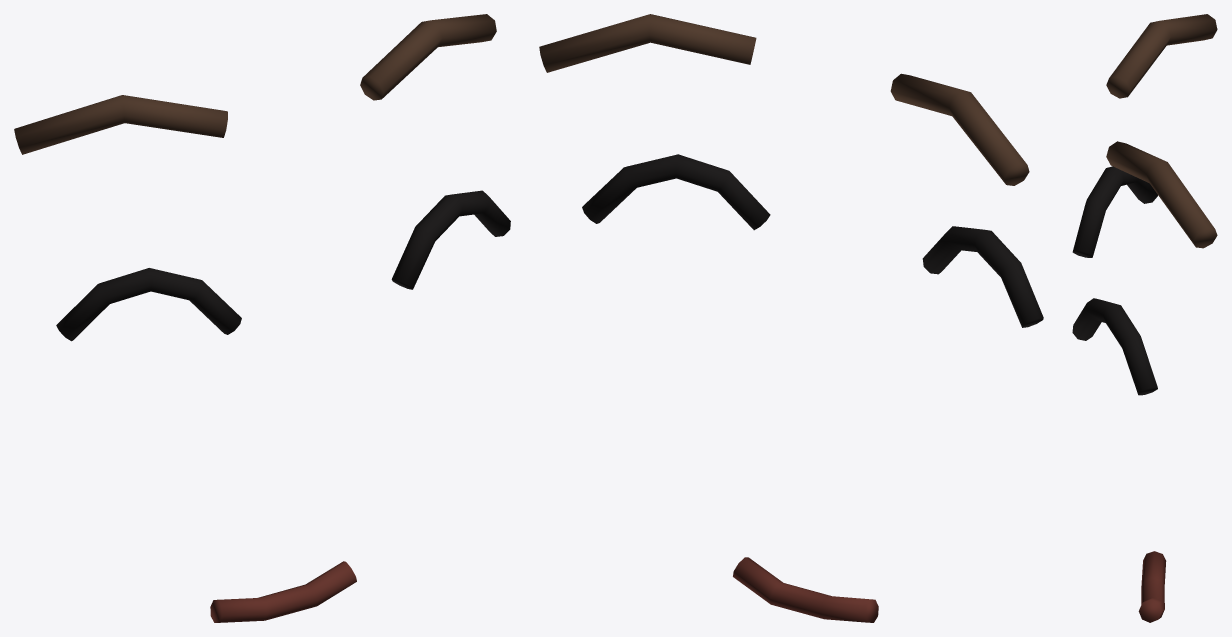
File: face_happy.fbx
3 renders of one model, left to right at view 1: azimuth 30°, elevation 25°; view 2: azimuth 150°, elevation 25°; view 3: azimuth 270°, elevation 25°, orthographic. The views are drawn at different scales.
Parts seen in each view (by area): view 1: face_happy; view 2: face_happy; view 3: face_happy.
Part boxes in pixels (box(x1,y1,x2,y2)): face_happy: box(14, 14, 510, 622); face_happy: box(539, 14, 1043, 622); face_happy: box(1072, 14, 1217, 622).
Bounding box in the file's own units: 0.187 × 0.2072 × 0.0528.
